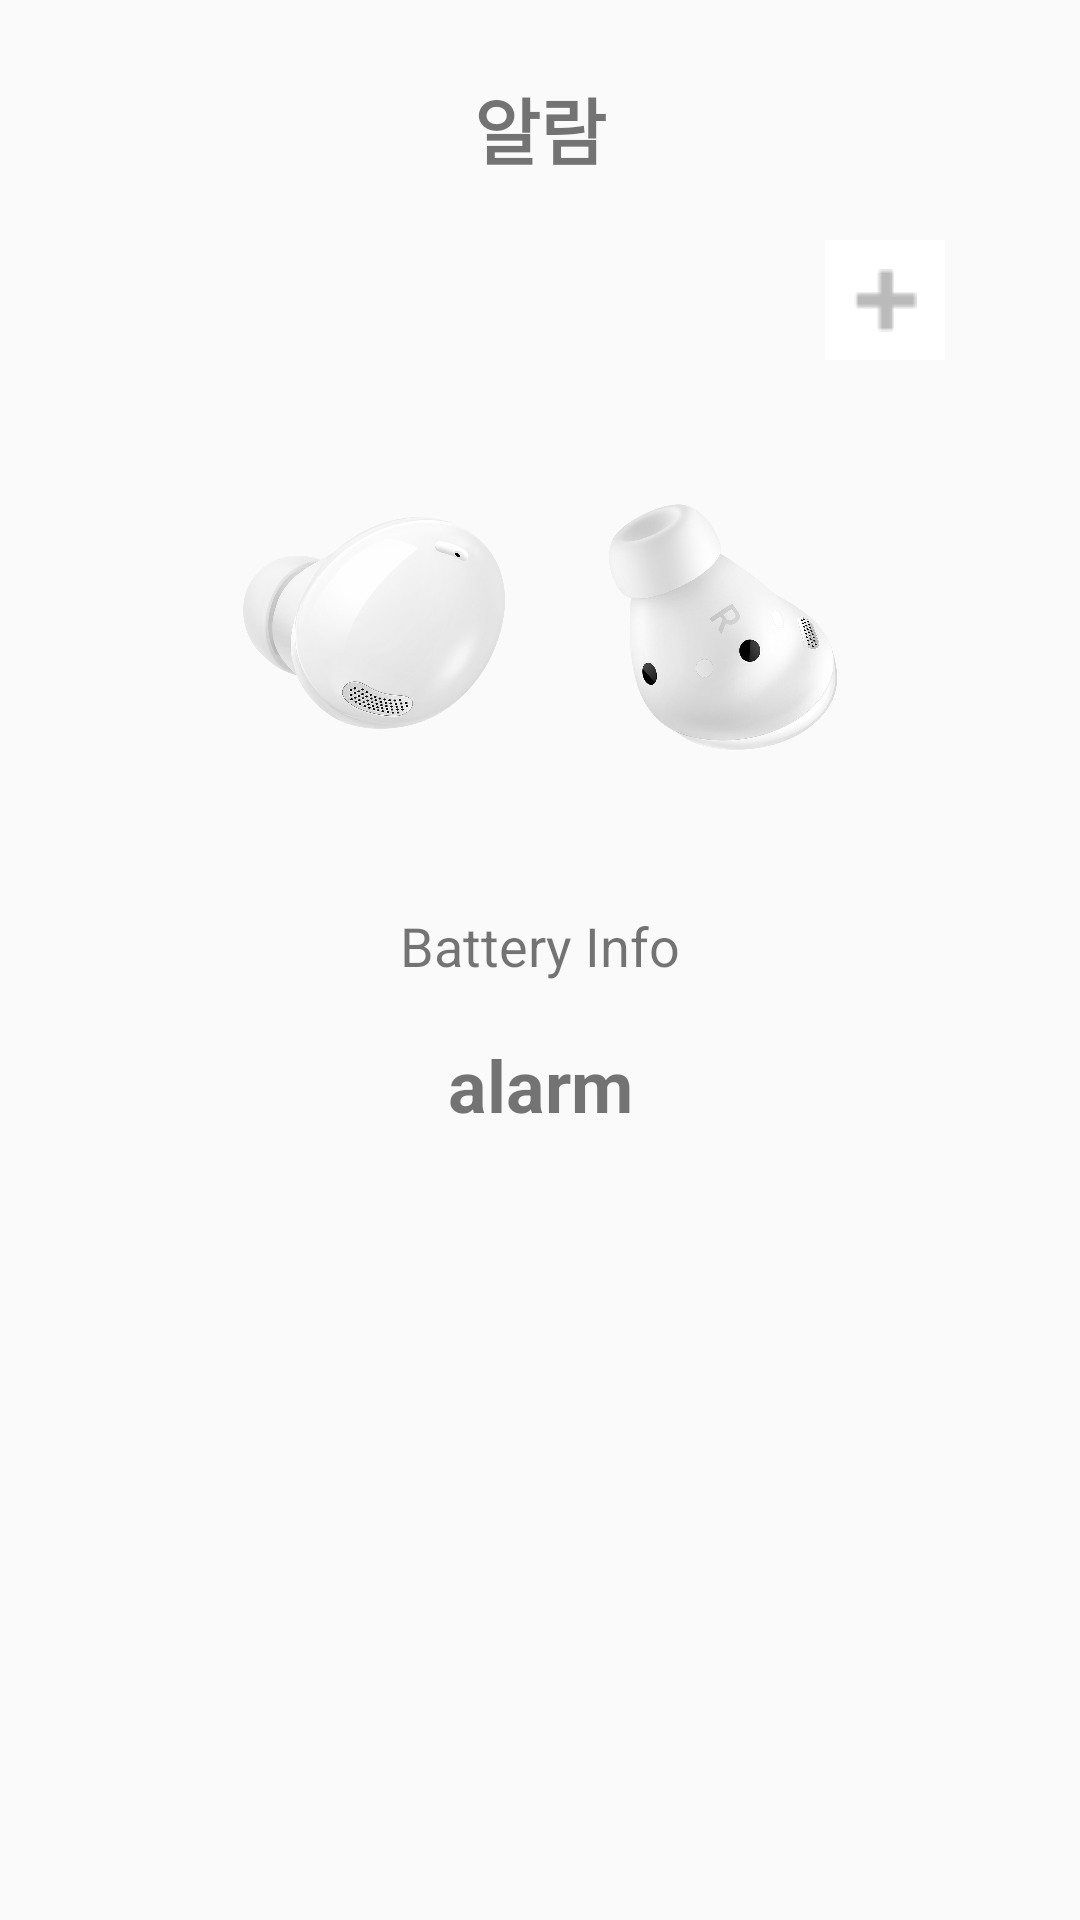

Where icons sit on this 1080 × 1920 app screen, as (x1, y1, x2, y2):
add: (856, 269, 917, 330)
